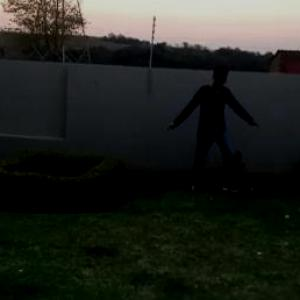land: (168, 73, 258, 200)
